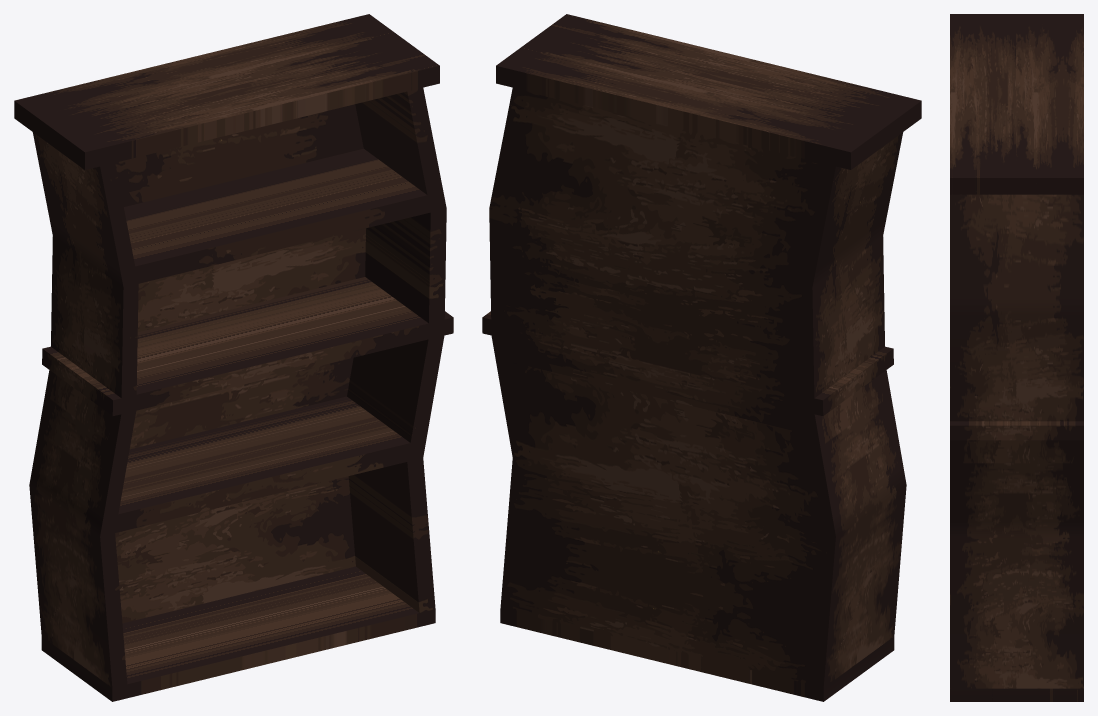
The model's file is shelf1.fbx.
The picture shows the model from 3 angles, left to right: view 1: azimuth 30°, elevation 25°; view 2: azimuth 150°, elevation 25°; view 3: azimuth 270°, elevation 25°; orthographic projection. The views are drawn at different scales.
Visible parts, largest first — view 1: pCube2; view 2: pCube2; view 3: pCube2.
Boxes of the visible parts, x1,y1,x2,y2 form: pCube2: (14,14,453,701); pCube2: (482,14,921,701); pCube2: (950,14,1083,701).
Bounding box in the file's own units: 10.48 × 15.1 × 3.48.
